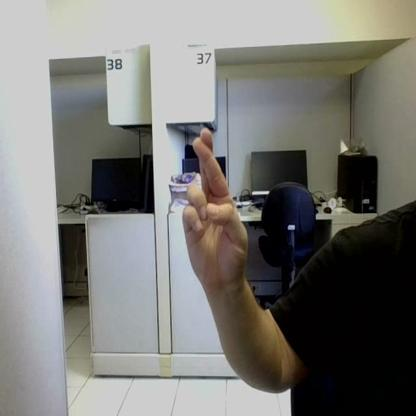R: (183, 128, 246, 281)
